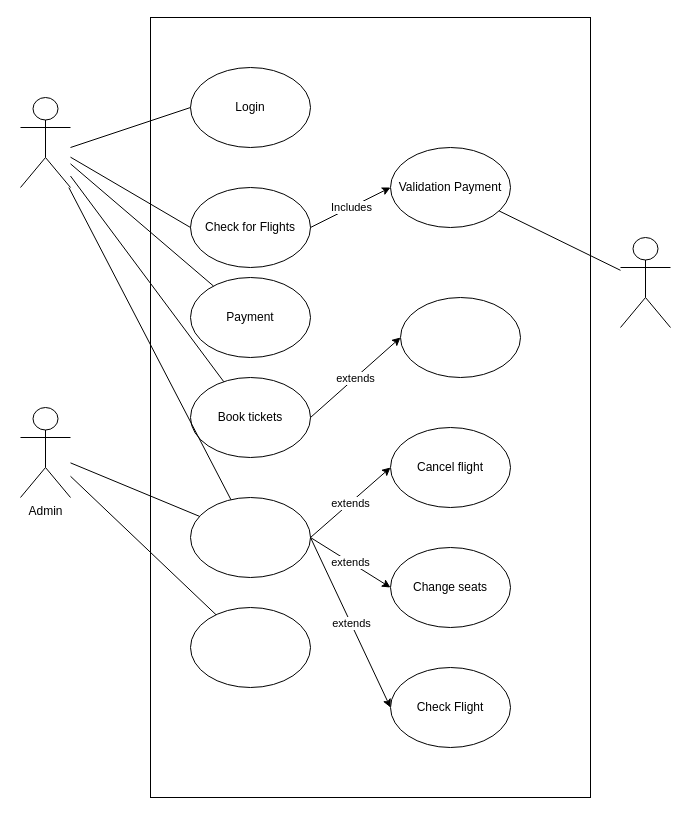
Some shapes in this 688 by 815 pixel diagram are drawn without their labels. The shapes that lost their labels are listed below. From the top down, each one's centre as x and y in pixels, then its label:
At (x=45, y=142): "Passenger".
At (x=645, y=282): "Bank".
At (x=460, y=337): "Choose seats".
At (x=250, y=537): "Manage Flights".
At (x=250, y=647): "Update Flight".
